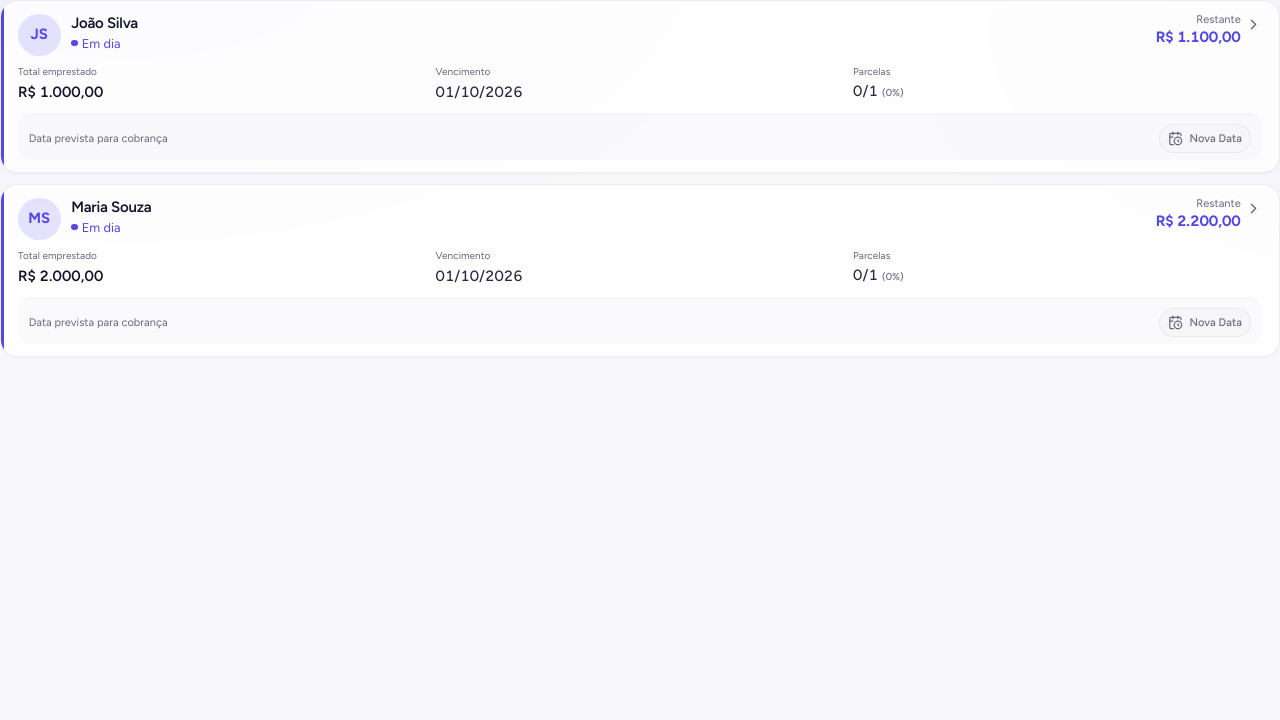
Test case: Loan Accordion Behavior › na visualização em cards (LoanListMobileCards), expande apenas um empréstimo por vez e recolhe o anterior
This screenshot has width=1280, height=720.
Check: the text "Composição do Saldo" is not shown
Clica no primeiro card (João Silva)
Click the button with aria-label "Expandir detalhes de João Silva".
click(640, 87)  # box left=1, top=1, right=1279, bottom=172
(page scrolled)
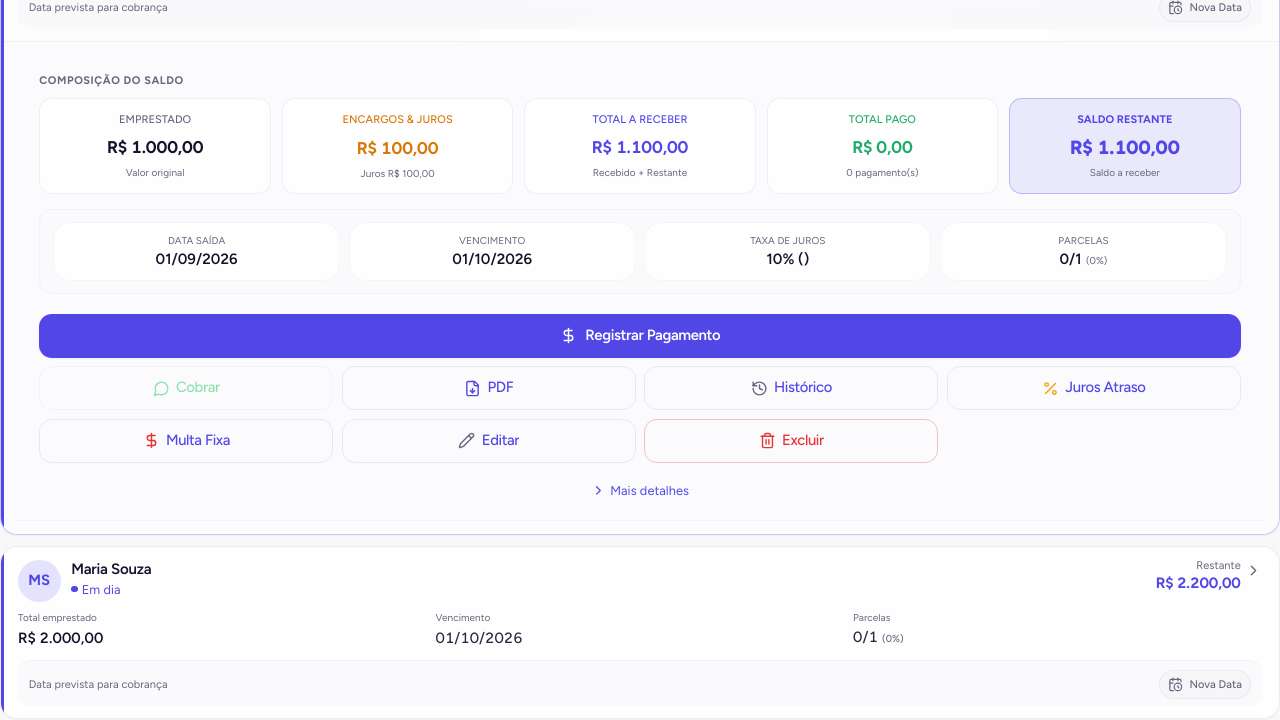
Check: the text "Composição do Saldo" is shown once, box left=39, top=74, right=184, bottom=87
Clica no segundo card (Maria Souza)
Click the button with aria-label "Expandir detalhes de Maria Souza".
click(640, 633)  # box left=1, top=547, right=1279, bottom=719
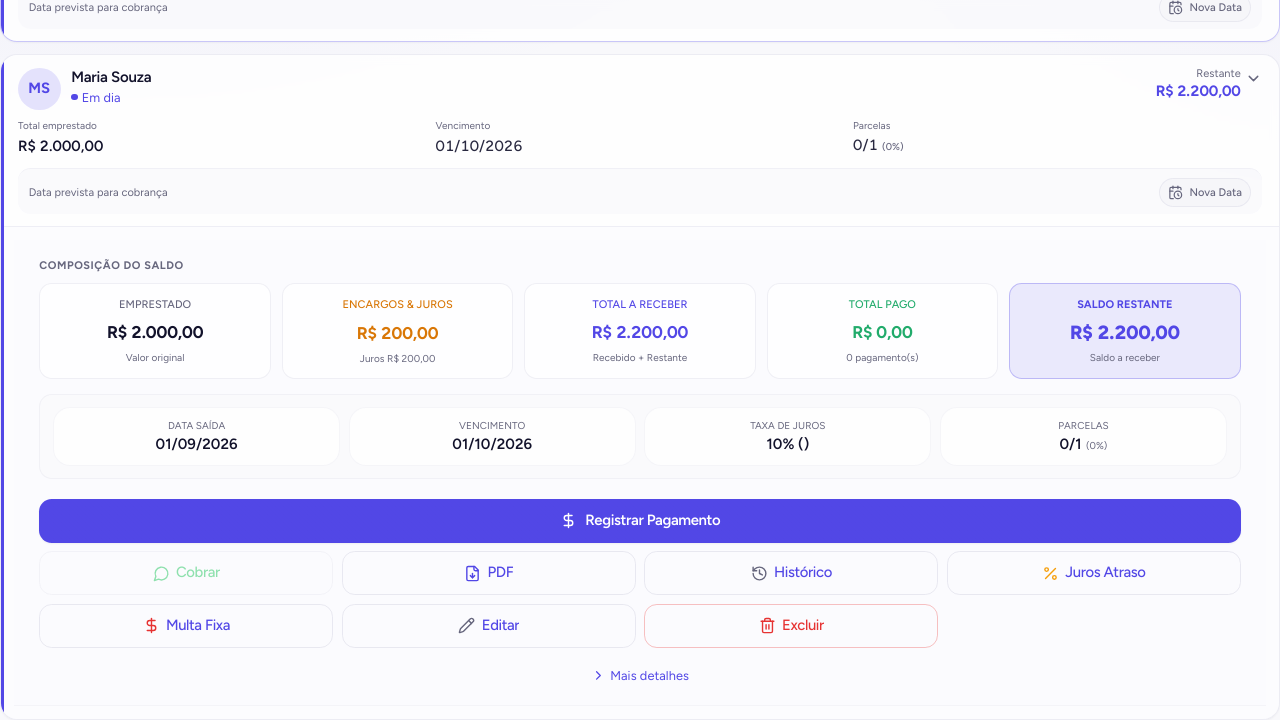
Check: the text "Composição do Saldo" is shown once, box left=39, top=259, right=184, bottom=272
Clica no segundo card de novo para recolher
Click the button with aria-label "Recolher detalhes de Maria Souza".
click(640, 141)  # box left=1, top=55, right=1279, bottom=226
(page scrolled)
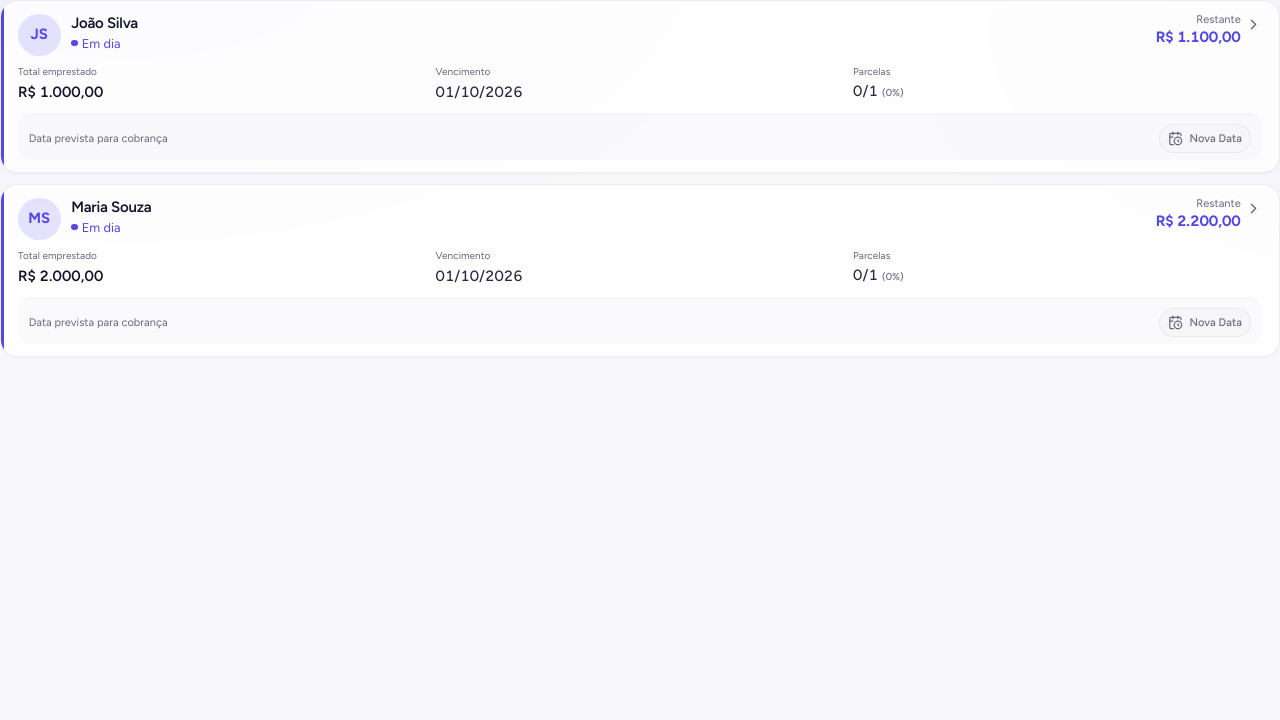
Check: the text "Composição do Saldo" is gone
